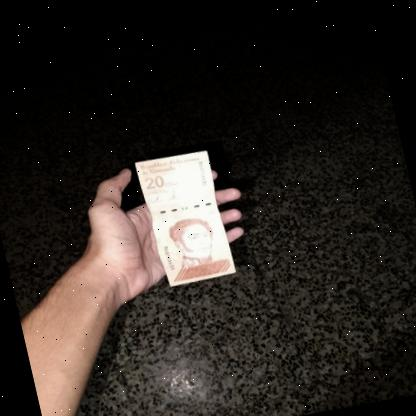twenty-front-vef: (134, 143, 237, 290)
